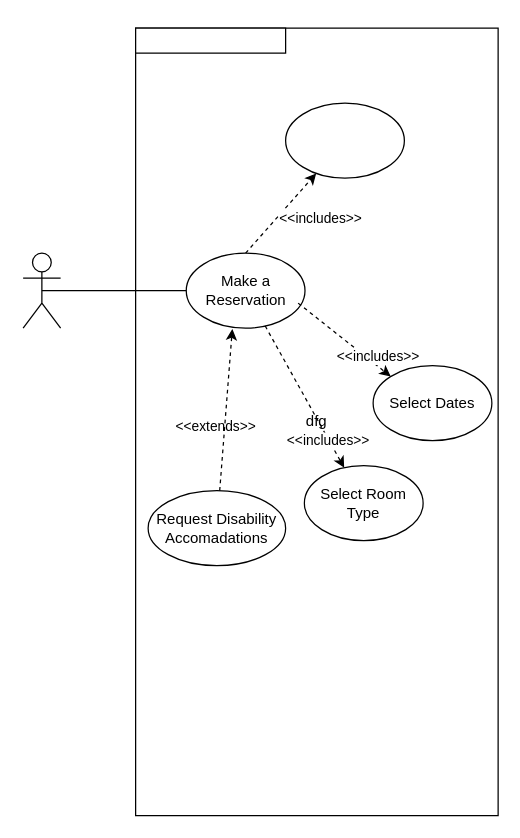
The diagram is 520 pixels wide and 838 high, and some of its shapes have lost their labels. Each missing label, with the centre of its shape:
"Confirm Availability" goes at point (344, 140).
"Guest" goes at point (41, 290).
"Hotel System" goes at point (210, 40).
